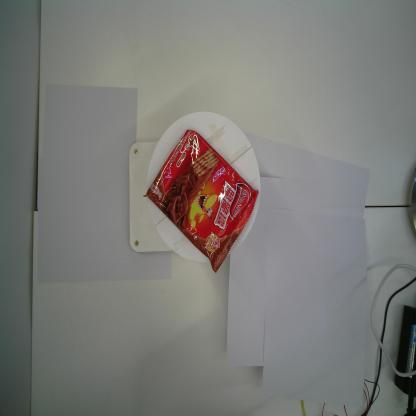Dessert: (143, 128, 260, 276)
